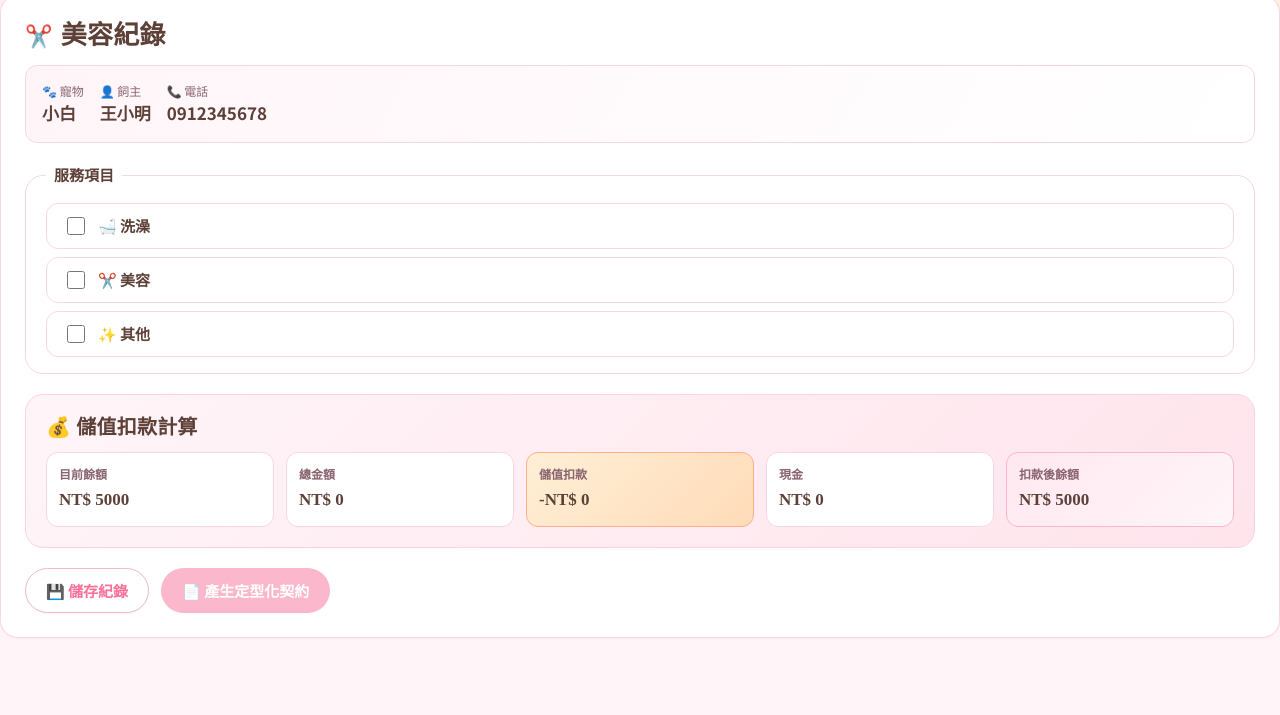
Test: GroomingRecordForm › shows version list after generating
Click the checkbox with test id "service-洗澡".
click(76, 226)  # box [67,217,85,235]
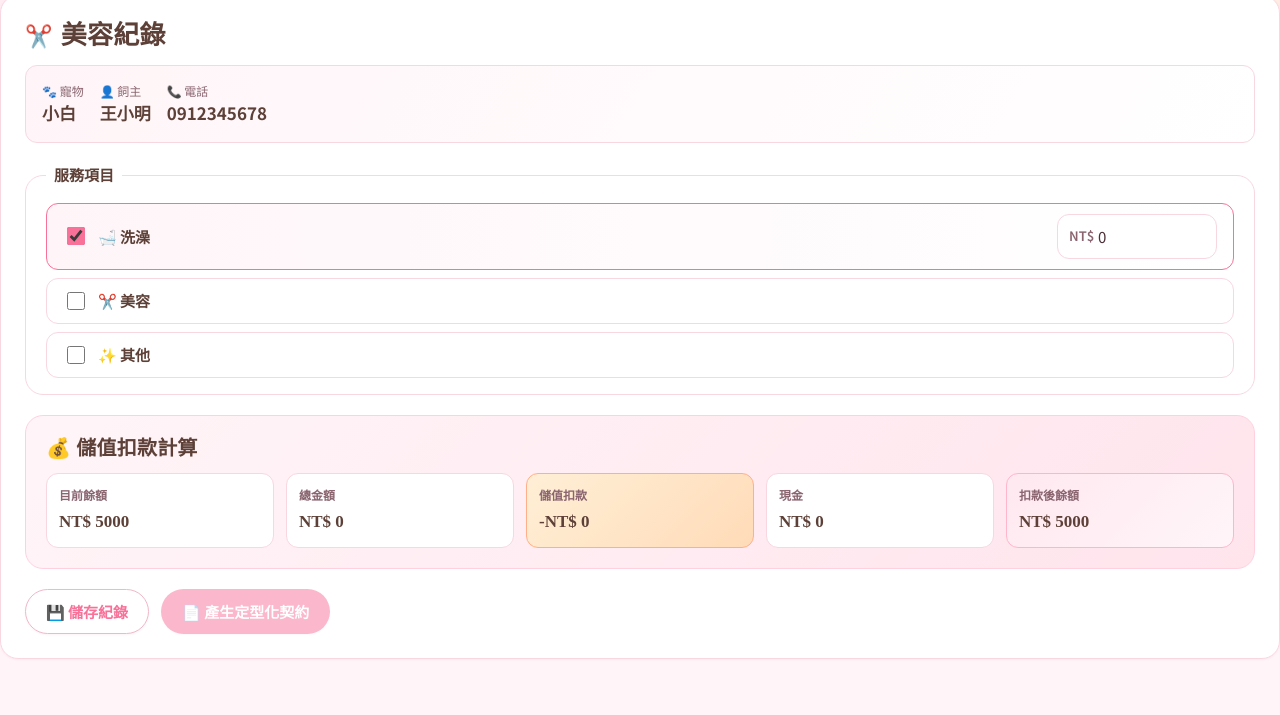
Replace the text in the number field with test id "price-洗澡" with "500" at (1137, 236), box [1057,214,1217,259]
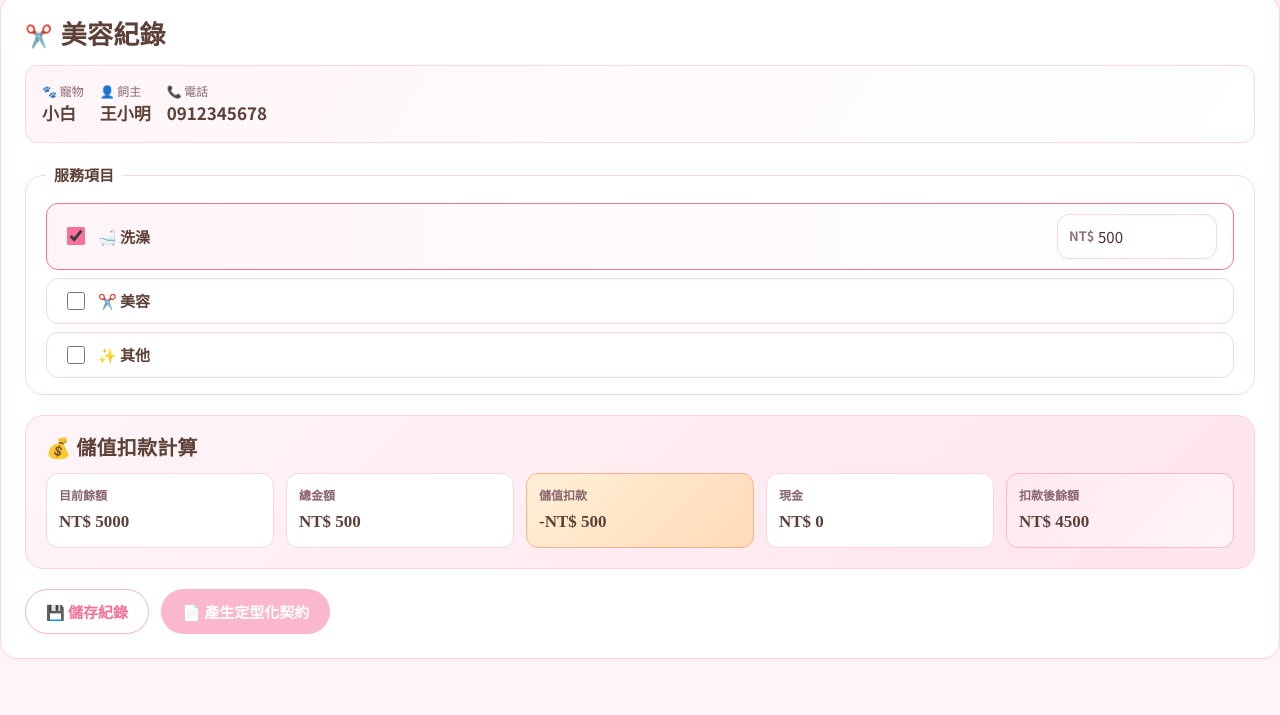
Click the button with test id "save-button".
click(87, 612)  # box [25,589,149,634]
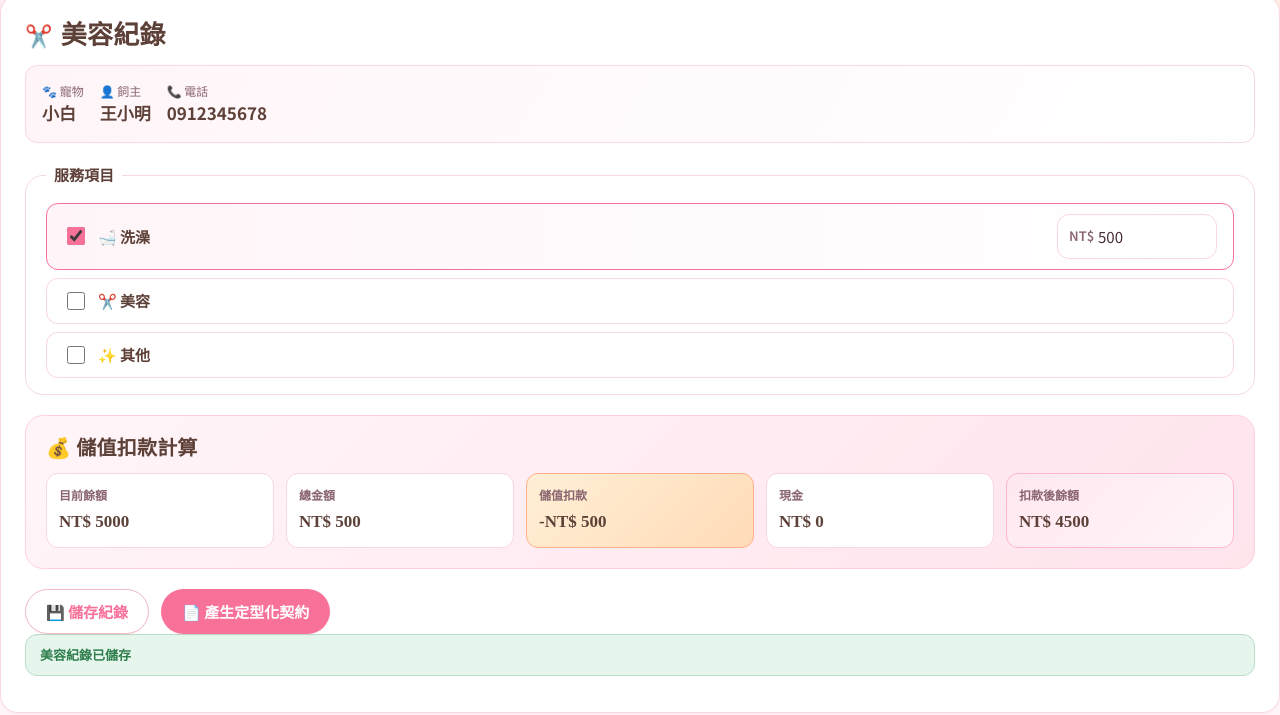
Click the button with test id "generate-contract-button".
click(246, 612)  # box [161,589,330,634]
(page scrolled)
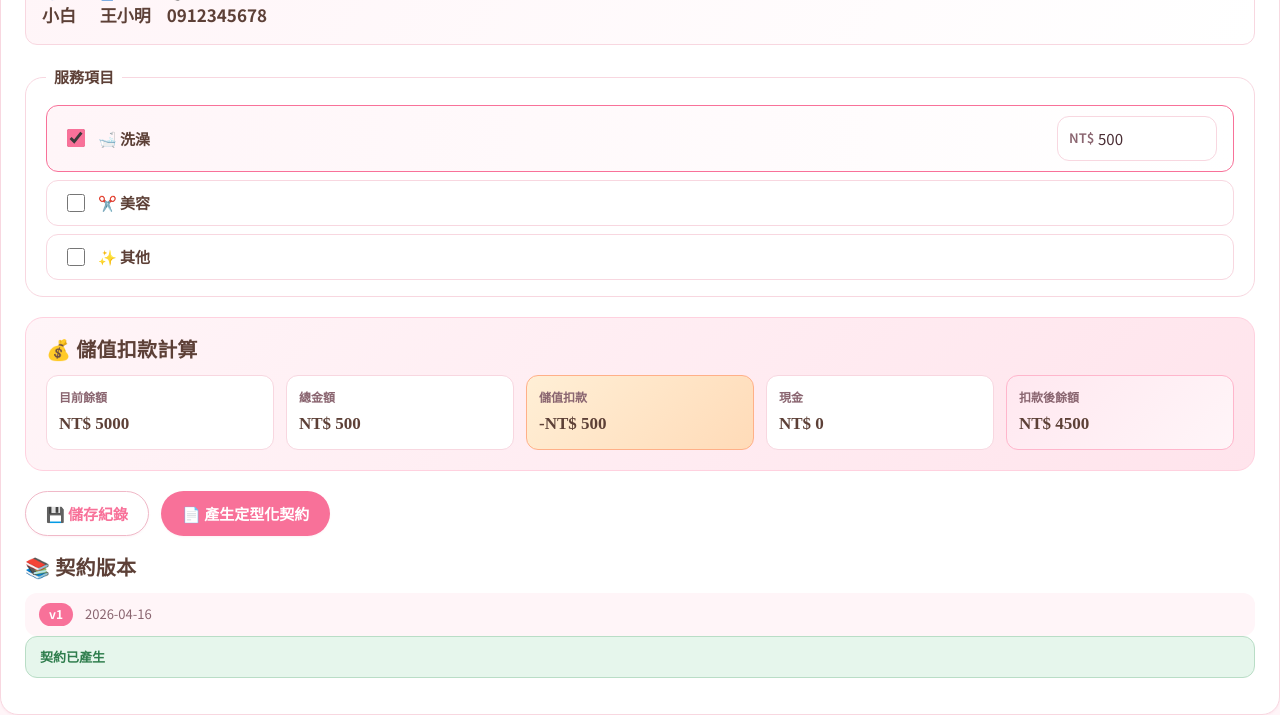
Now the element with test id "version-list" is shown, box [25,556,1255,636]
